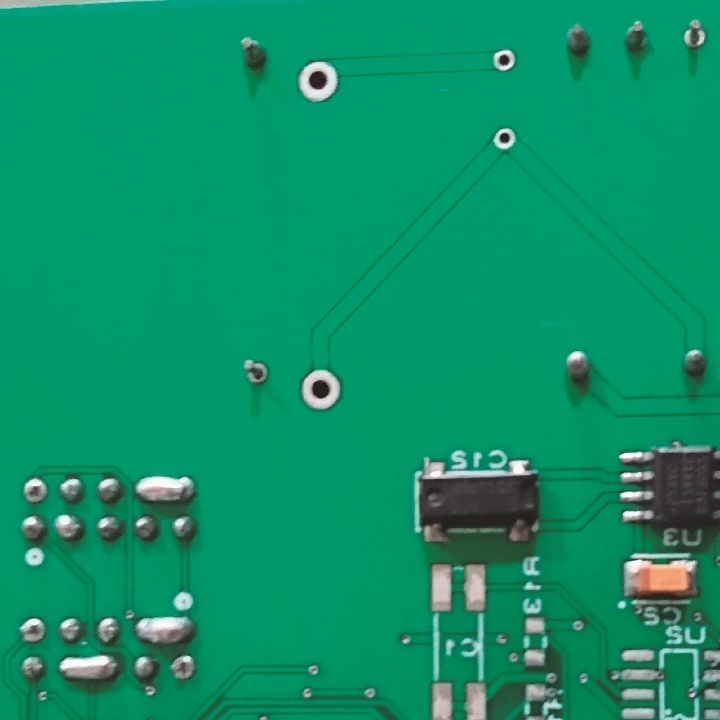F: (296, 368, 344, 412), (295, 60, 341, 104), (680, 18, 710, 55), (15, 614, 49, 645), (241, 354, 272, 386), (168, 653, 202, 682), (19, 475, 47, 506), (489, 48, 519, 76), (492, 125, 516, 152)
P: (135, 474, 196, 506), (135, 615, 196, 646), (57, 655, 122, 682)
